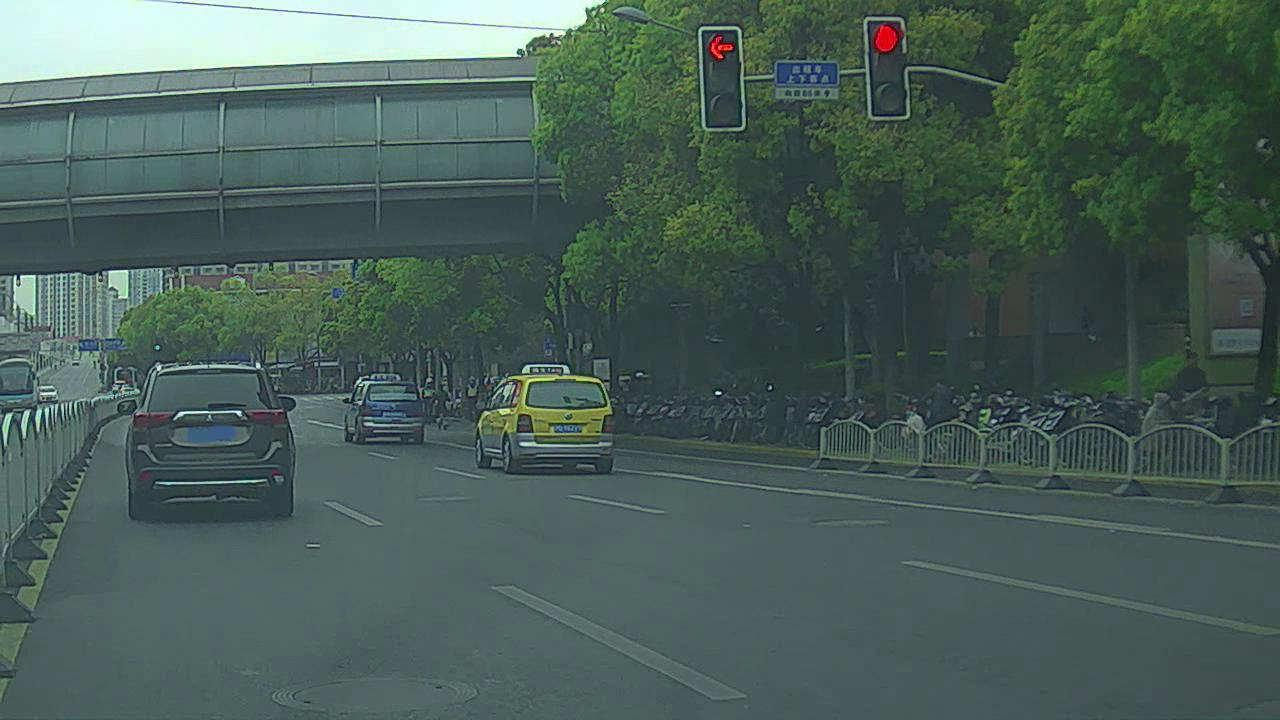traffic_light: (859, 15, 916, 116), (699, 32, 746, 136)
